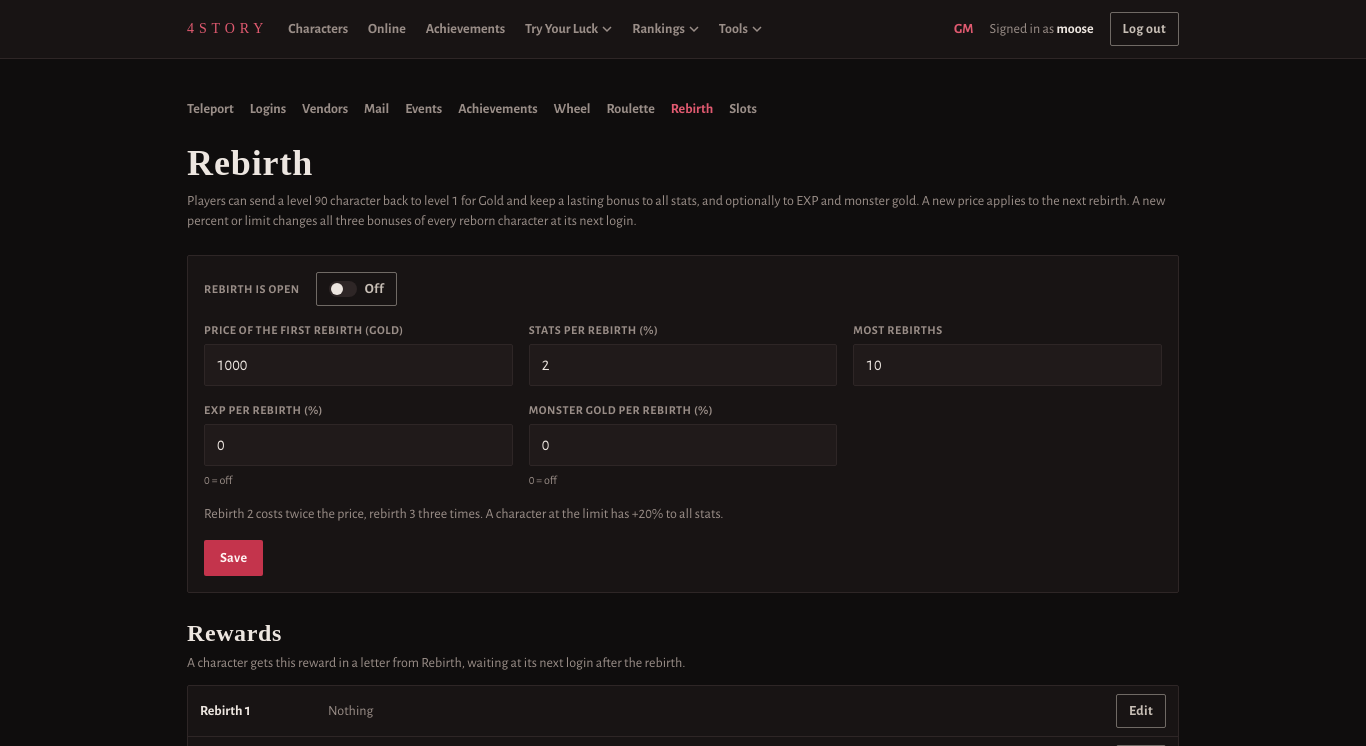
Test: GM rebirth page › works out the cost and the top bonus from the fields
This screenshot has width=1366, height=746.
Expected: the text "Rebirth 2 costs twice the price, rebirth 3 three times. A character at the limit has +20% to all stats." is shown, [204,507,724,521]
Replace the text in the number field labelled "Stats per rebirth (%)" with "3" at x=683, y=365, box [529,344,837,386]
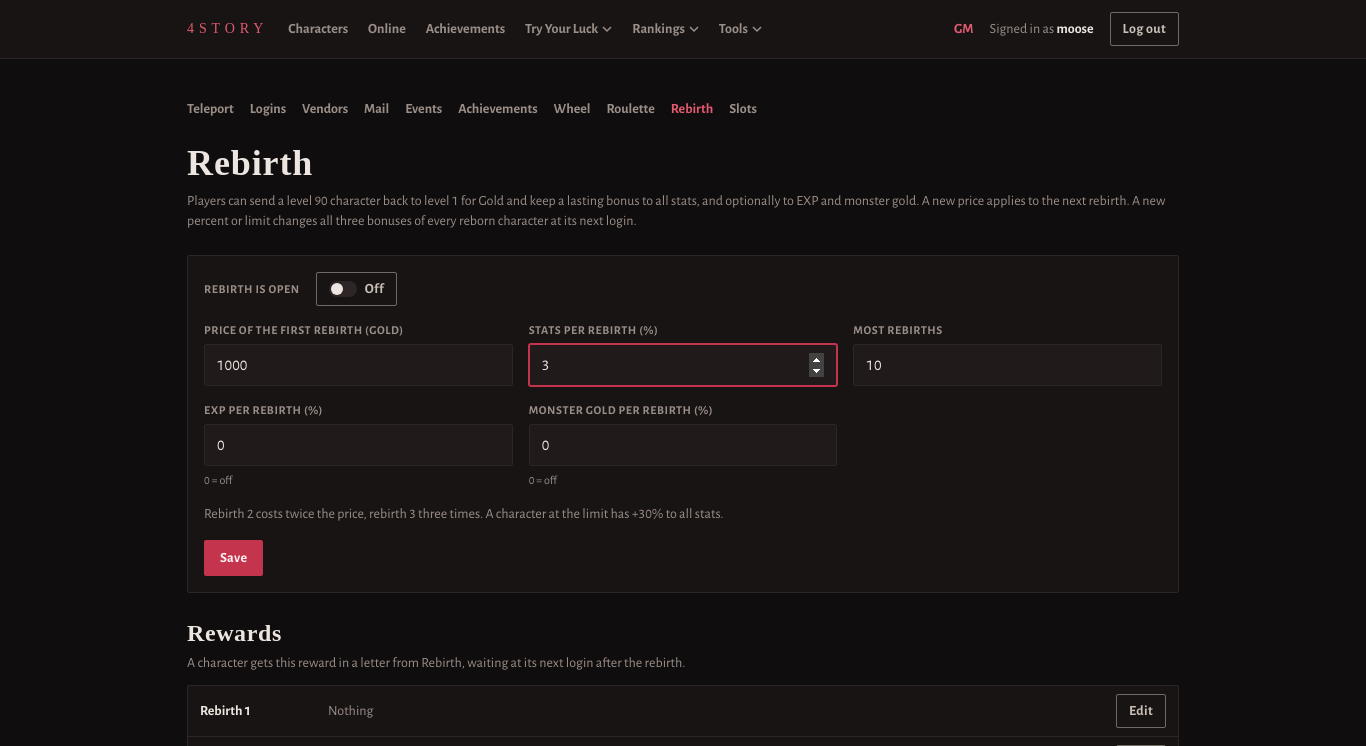
Replace the text in the number field labelled "Most rebirths" with "5" at x=1008, y=365, box [853,344,1162,386]
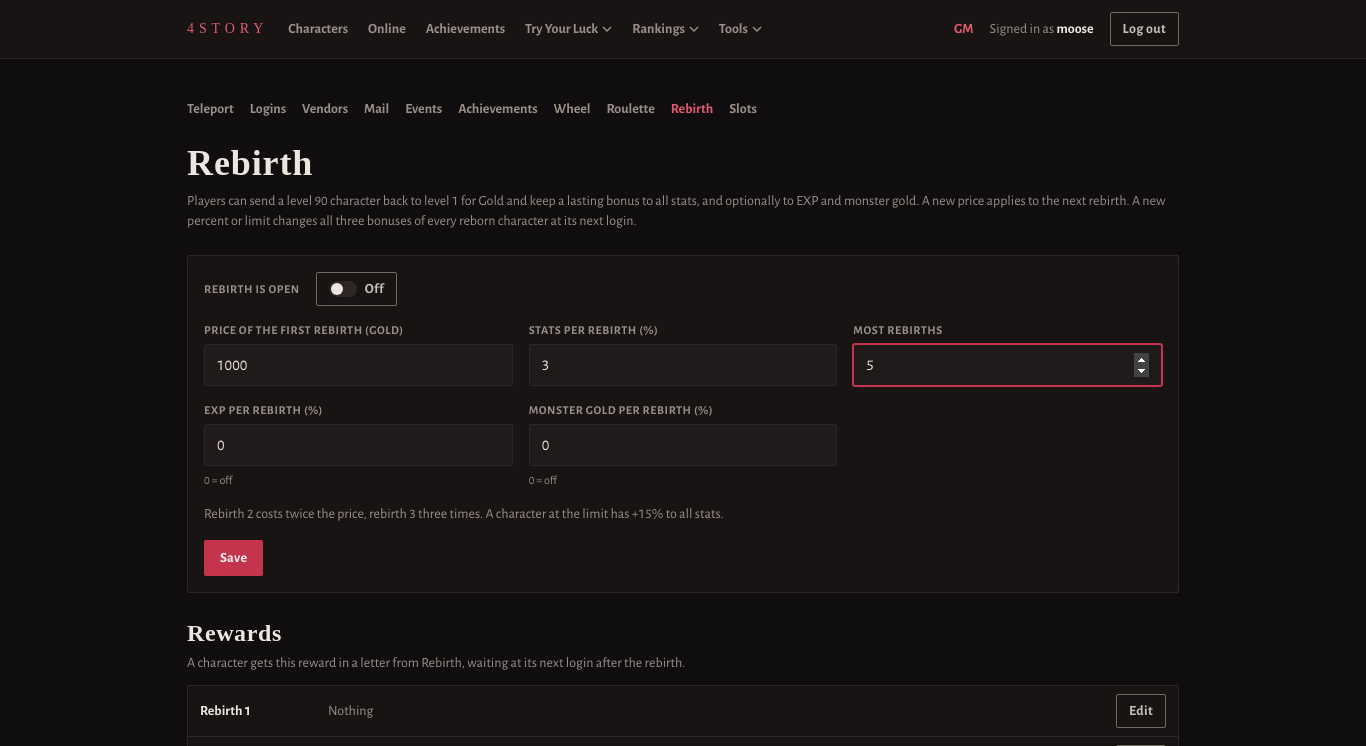
Expected: the text "A character at the limit has +15% to all stats." is shown, [204,507,724,521]
Replace the text in the number field labelled "EXP per rebirth (%)" with "4" at x=358, y=445, box [204,424,513,466]
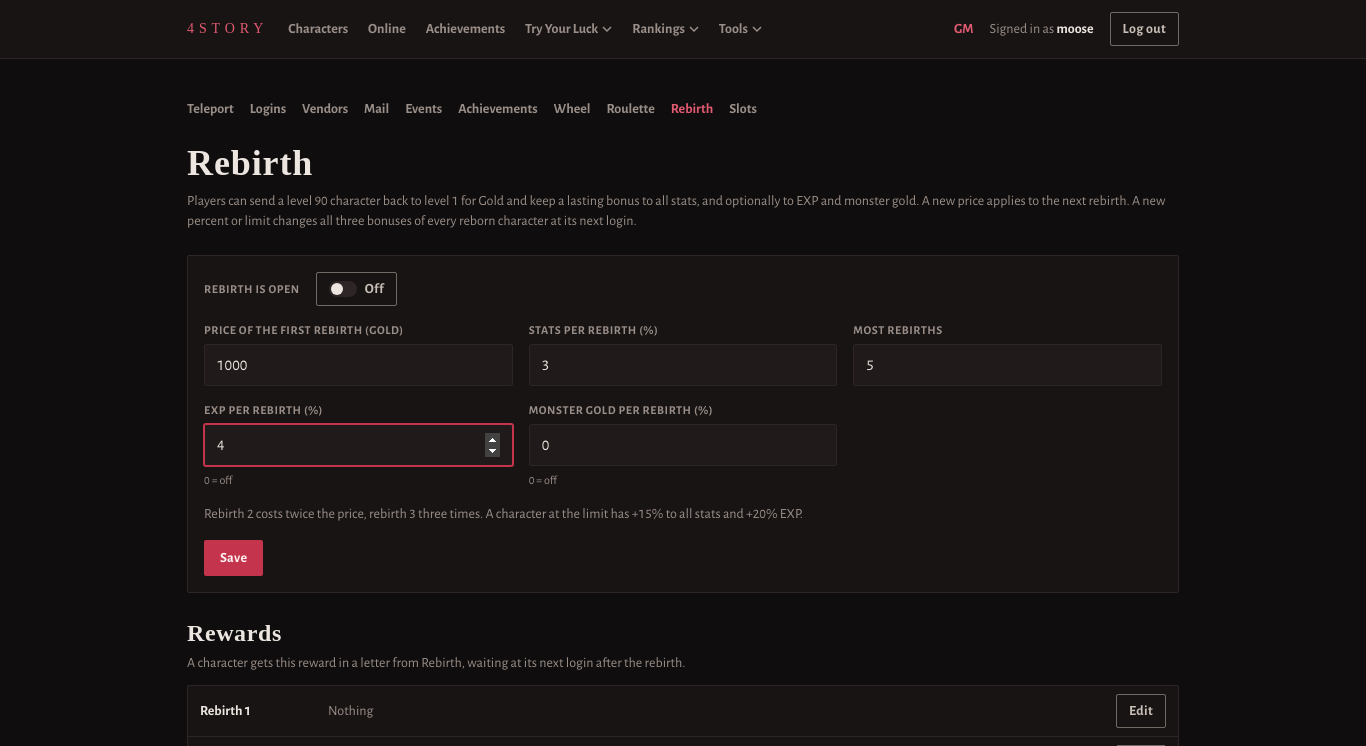
Expected: the text "A character at the limit has +15% to all stats and +20% EXP." is shown, [204,507,803,521]
Replace the text in the number field labelled "Monster gold per rebirth (%)" with "2" at x=683, y=445, box [529,424,837,466]
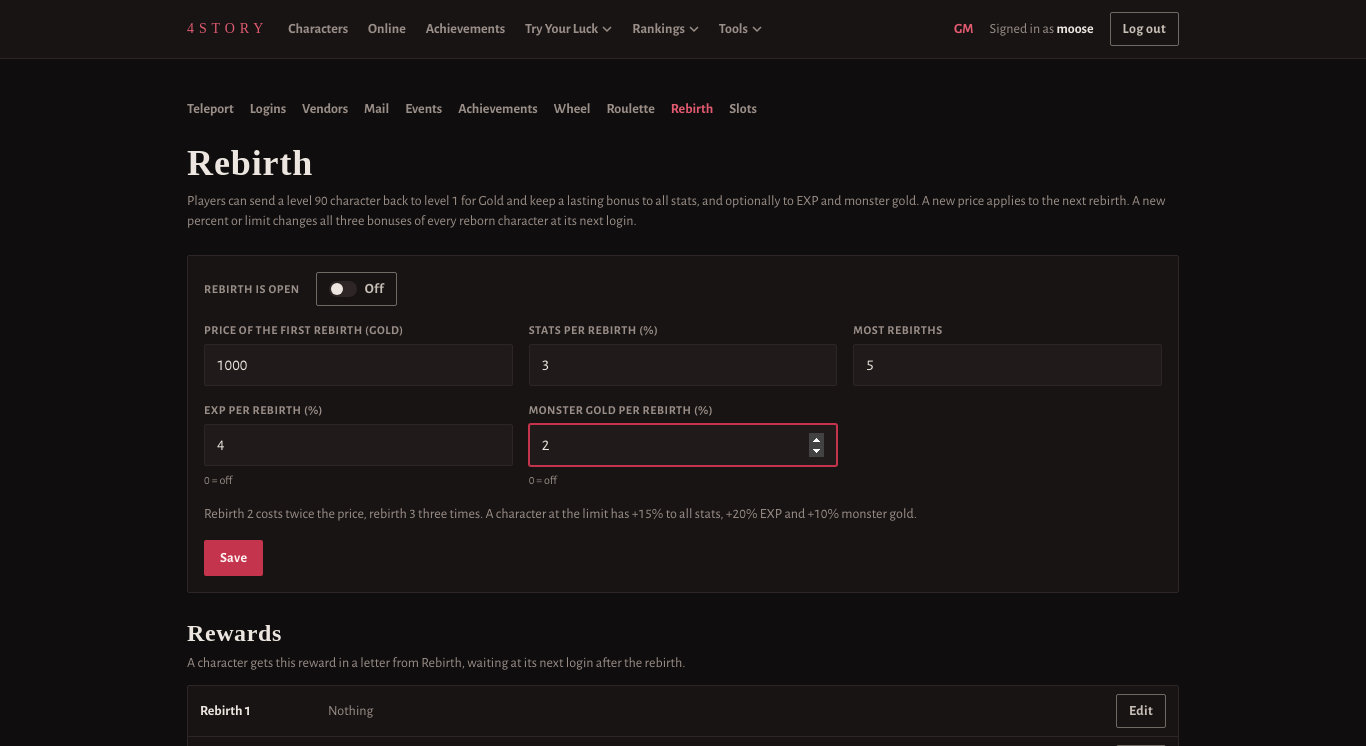
Expected: the text "has +15% to all stats, +20% EXP and +10% monster gold." is shown, [204,507,917,521]
